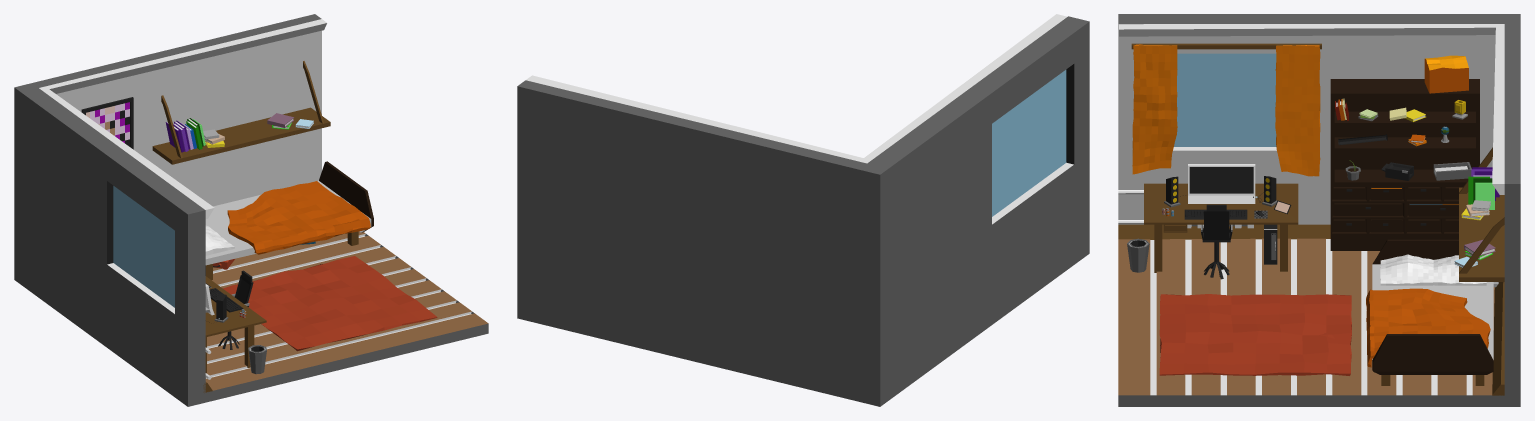
Rendered from room3.glb.
The picture shows the model from 3 angles, left to right: view 1: azimuth 30°, elevation 25°; view 2: azimuth 150°, elevation 25°; view 3: azimuth 270°, elevation 25°; orthographic projection. The views are drawn at different scales.
Parts seen in each view (by area): view 1: Plane, Plane_Material_0.001; view 2: Plane; view 3: Plane, Plane_Material_0.001.
Boxes of the visible parts, x1,y1,x2,y2 form: Plane: (14,14,488,406); Plane_Material_0.001: (218,270,253,349); Plane: (517,14,1089,406); Plane: (1118,14,1520,406); Plane_Material_0.001: (1201,204,1232,279).
Size of the model in its own units: 400 by 245 by 400.
Materials: 1 (1 with a texture image).
